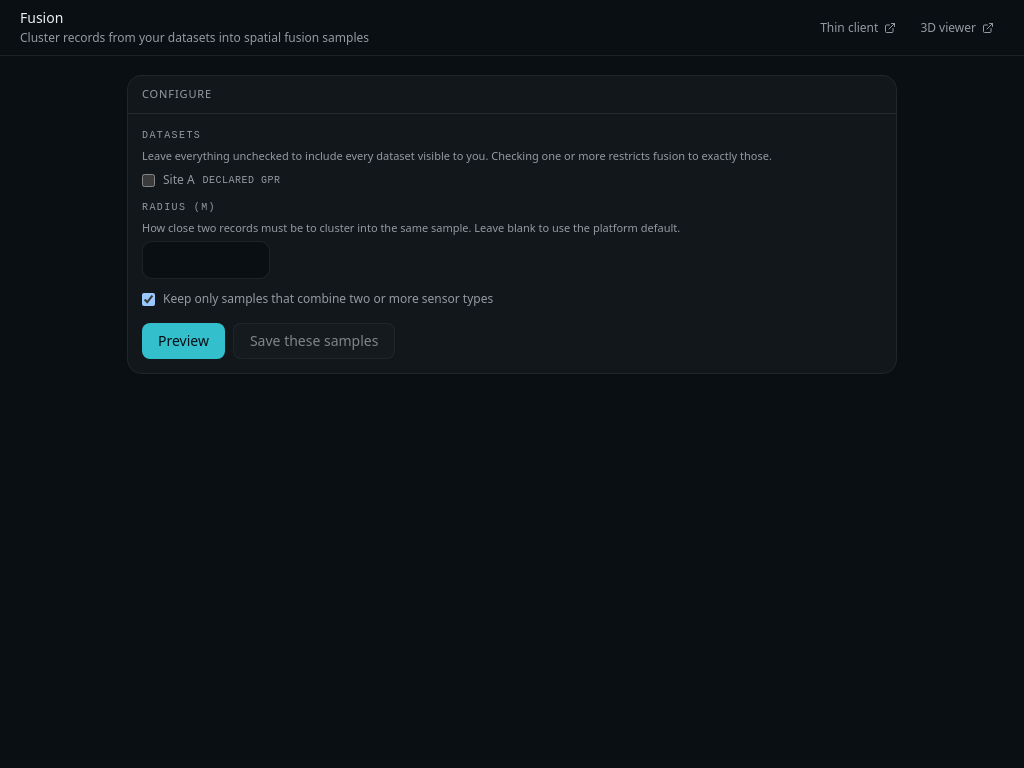
Test: preview › shows excluded partitions with their stated reason, not silently
Expected: the text "Site A" is shown, [163,172,195,188]
Step 1. Click the button "Preview" → point(183, 341), box [142,323,225,359]
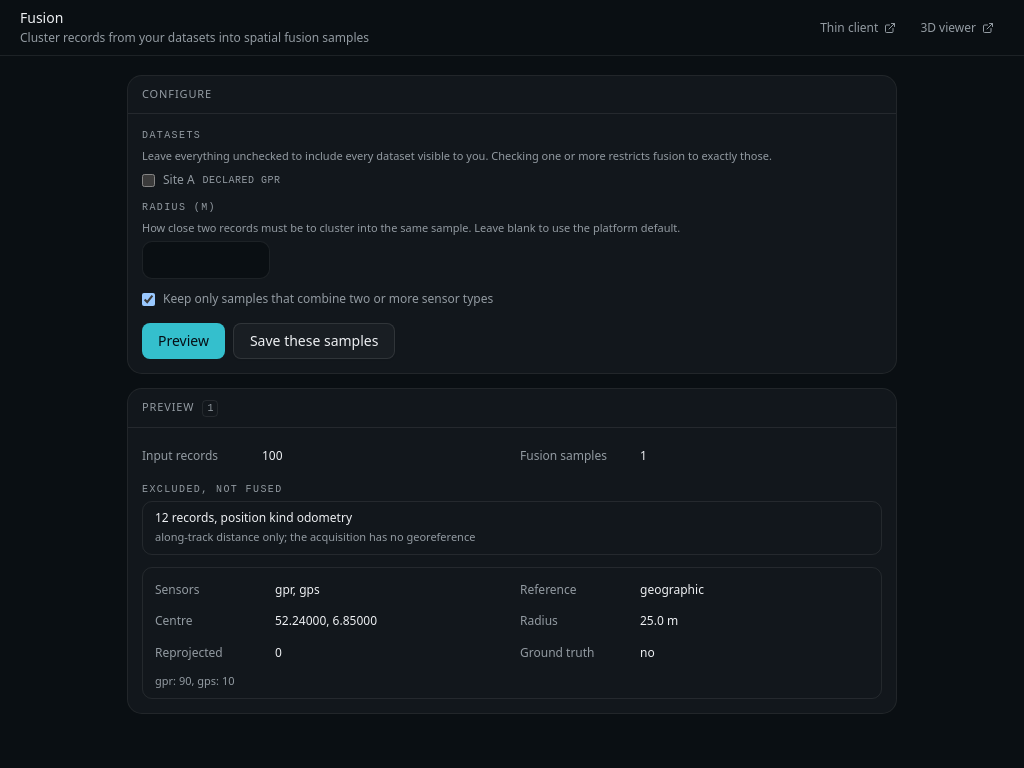
Now the list item "along-track distance only" shows "odometry", box [297,509,352,526]
